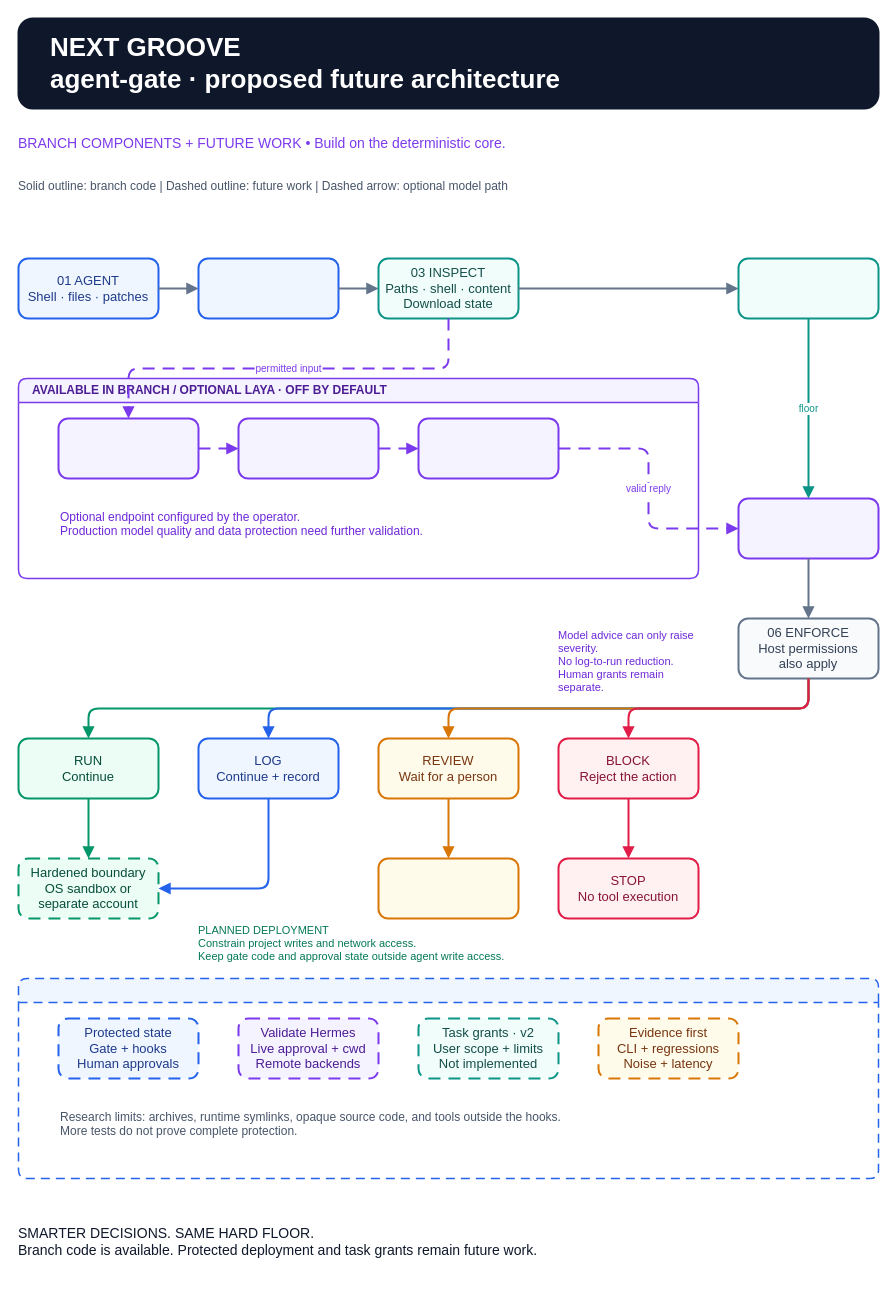
This 896x1290 diagram has some shape labels left out. Here are the shapes that lost their labels. From the top down, the box of each, then its label:
(197, 257, 339, 319): 02 ADAPTERS Claude · Codex Hermes · native
(737, 257, 879, 319): 04 POLICY FLOOR Deterministic rules No model required
(57, 417, 199, 479): Bounded evidence Prompts + results Redact secrets
(237, 417, 379, 479): Laya advice Typed decision Cannot issue grants
(417, 417, 559, 479): Validate reply 2-second deadline Failure: keep floor
(737, 497, 879, 559): 05 STRICTER WINS Policy + advice No reductions
(377, 857, 519, 919): In-session approval Native host / MCP Exact Codex retry
(17, 977, 879, 1179): PLANNED / THE REST OF THE ROADMAP
